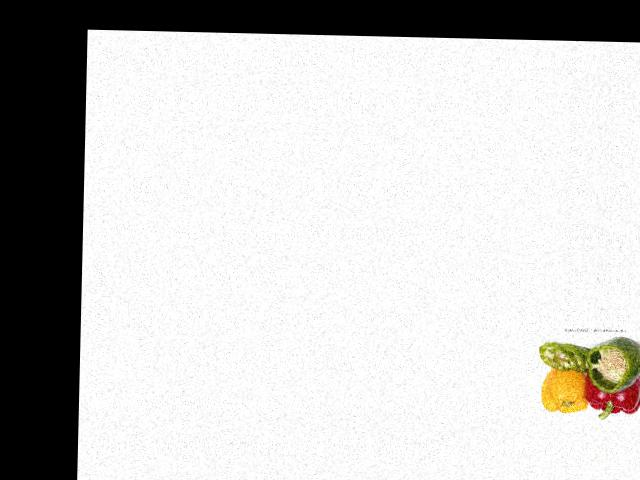bell_pepper: (585, 341, 640, 395)
